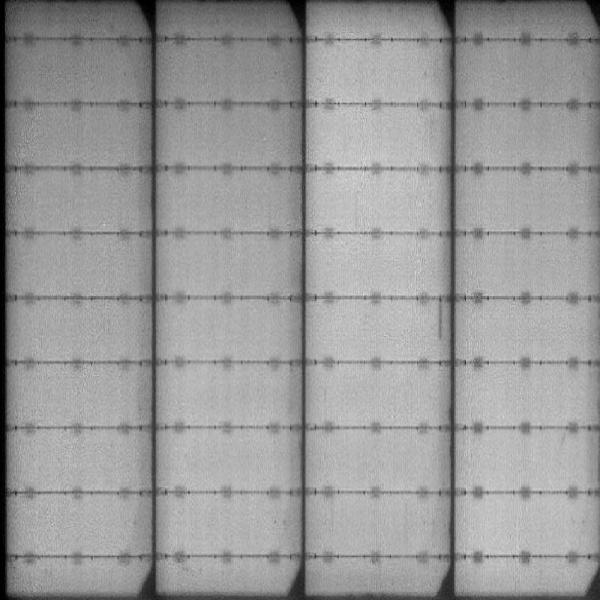scratch: (430, 296, 449, 342)
